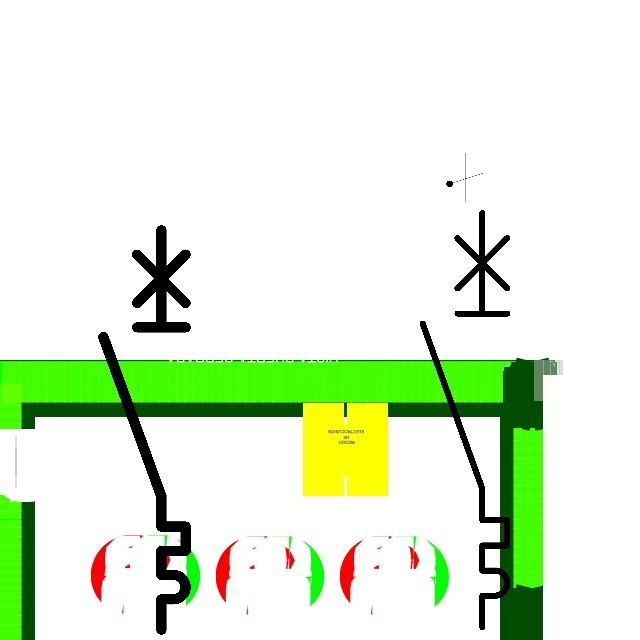interruptor_termomagnetico: (412, 202, 518, 637), (93, 220, 196, 640)
